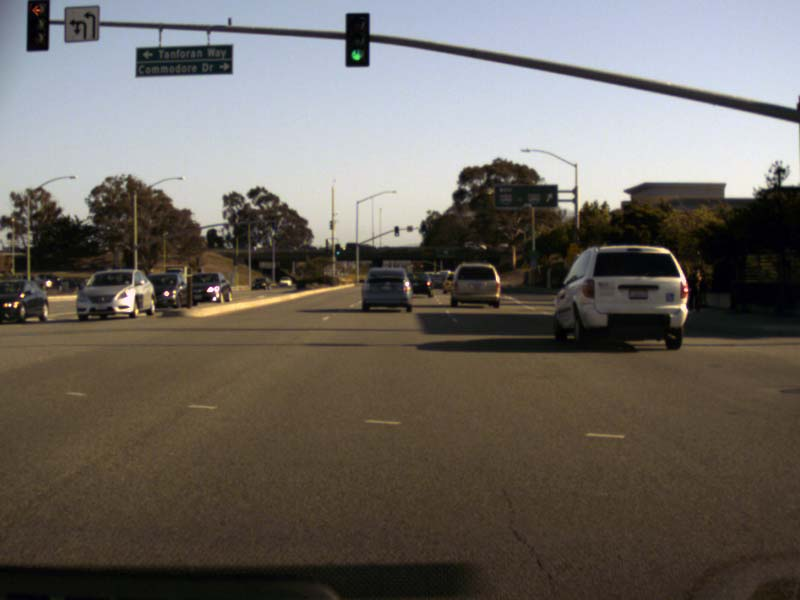Green: (345, 11, 369, 68)
